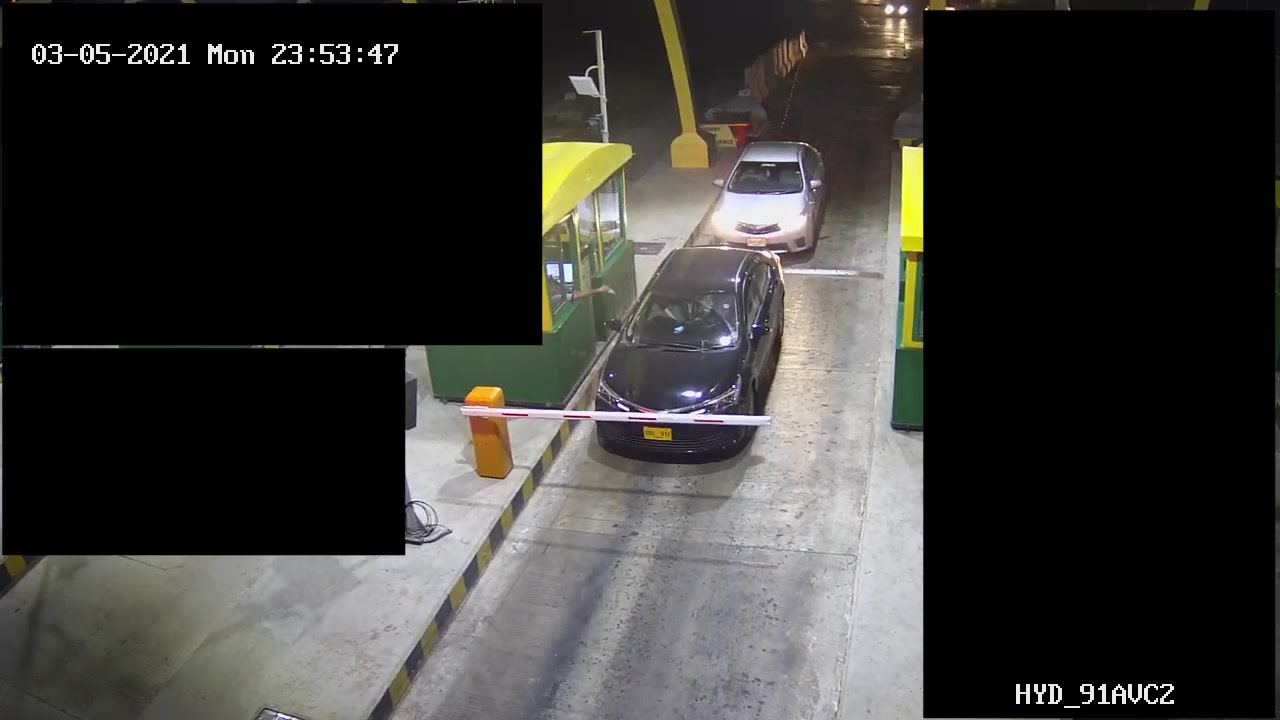F1: (594, 247, 793, 477), (708, 137, 833, 251)
